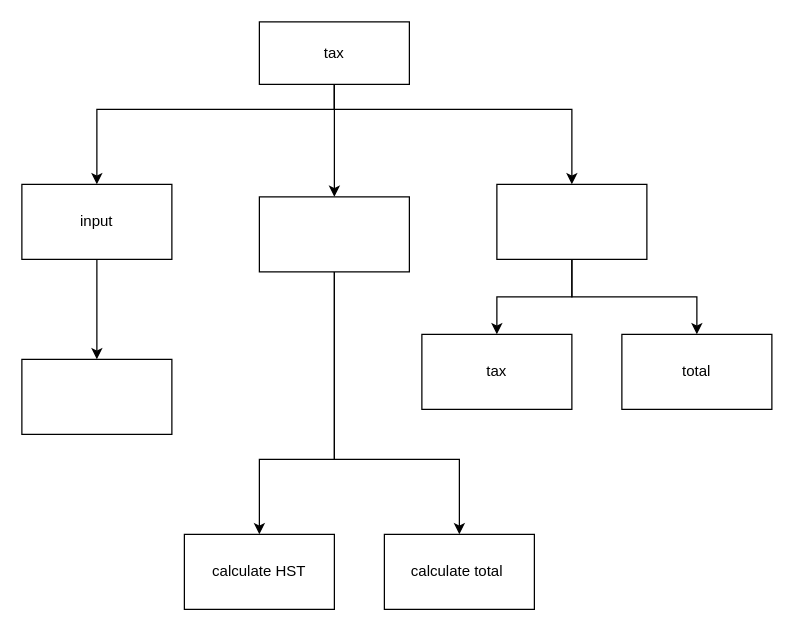
The diagram is 794 pixels wide and 631 high, and some of its shapes have lost their labels. The shapes that lost their labels are listed below. From the top down, each one's centre as x and y in pixels, then its label:
At pixel 333 234: "process".
At pixel 571 221: "output".
At pixel 96 396: "subtotal".
